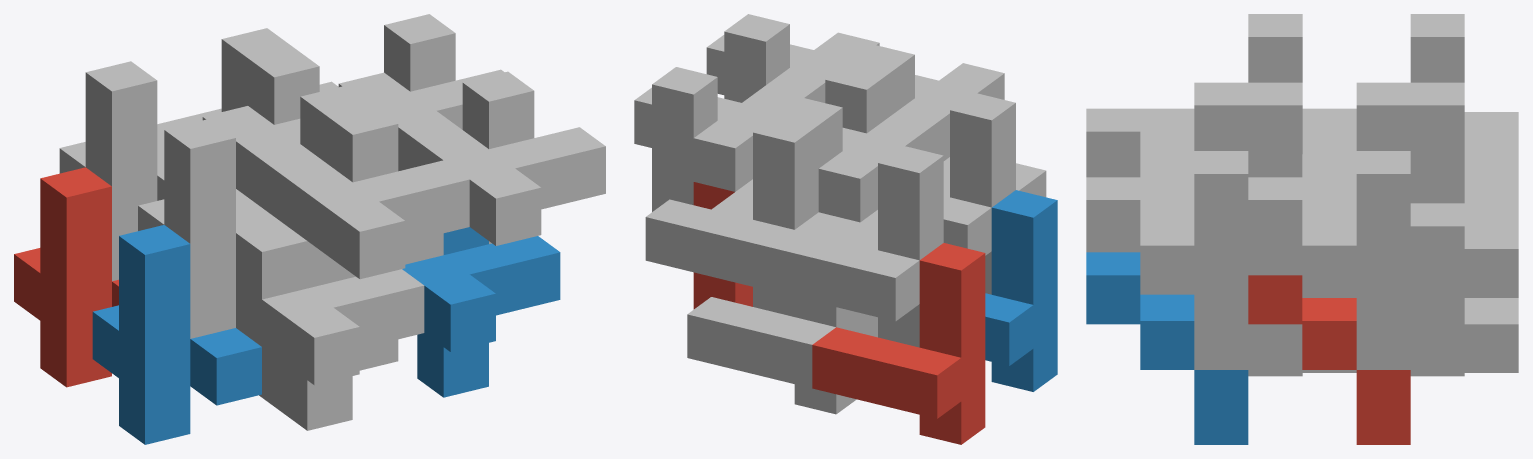
The model's file is tiling.obj.
The picture shows the model from 3 angles, left to right: view 1: azimuth 30°, elevation 25°; view 2: azimuth 150°, elevation 25°; view 3: azimuth 270°, elevation 25°; orthographic projection. The views are drawn at different scales.
Parts seen in each view (by area): view 1: copy_1_domain_2, copy_2_domain_4, copy_1_domain_4, copy_2_domain_2, copy_2_domain_8, copy_2_domain_6, copy_1_domain_1, copy_1_domain_3, copy_2_domain_7, copy_2_domain_3, copy_1_domain_8, copy_1_domain_7 (+1 smaller); view 2: copy_1_domain_1, copy_1_domain_3, copy_1_domain_7, copy_2_domain_7, copy_1_domain_2, copy_1_domain_5, copy_1_domain_4, copy_2_domain_8, copy_2_domain_3, copy_2_domain_4, copy_1_domain_8, copy_2_domain_5 (+1 smaller); view 3: copy_2_domain_7, copy_2_domain_8, copy_1_domain_7, copy_2_domain_6, copy_2_domain_4, copy_2_domain_5, copy_1_domain_5, copy_2_domain_3, copy_1_domain_3, copy_1_domain_8, copy_1_domain_4, copy_1_domain_6.
Part boxes in pixels (x1,y1,x2,y2): copy_1_domain_2: (92,225,261,444); copy_2_domain_4: (281,105,469,279); copy_1_domain_4: (138,119,307,338); copy_2_domain_2: (236,241,424,430); copy_2_domain_8: (417,71,605,245); copy_2_domain_6: (402,227,560,397); copy_1_domain_1: (14,167,118,387); copy_1_domain_3: (59,61,202,281); copy_2_domain_7: (338,14,504,171); copy_2_domain_3: (202,47,325,221); copy_1_domain_8: (300,85,443,264); copy_1_domain_7: (196,28,338,119); copy_1_domain_1: (812,243,985,444); copy_1_domain_3: (770,145,943,347); copy_1_domain_7: (645,115,818,316); copy_2_domain_7: (634,67,807,211); copy_1_domain_2: (985,190,1057,391); copy_1_domain_5: (687,212,860,414); copy_1_domain_4: (943,92,1015,294); copy_2_domain_8: (706,14,879,102); copy_2_domain_3: (777,97,932,222); copy_2_domain_4: (849,44,1004,160); copy_1_domain_8: (825,62,890,133); copy_2_domain_5: (693,182,752,309); copy_2_domain_7: (1248,151,1410,369); copy_2_domain_8: (1086,151,1248,369); copy_1_domain_7: (1410,82,1518,301); copy_2_domain_6: (1086,252,1248,444); copy_2_domain_4: (1086,82,1248,177); copy_2_domain_5: (1248,275,1410,444); copy_1_domain_5: (1410,298,1518,376); copy_2_domain_3: (1302,82,1410,177); copy_1_domain_3: (1410,14,1518,180); copy_1_domain_8: (1248,82,1356,297); copy_1_domain_4: (1248,14,1302,82); copy_1_domain_6: (1248,324,1356,376).
Size of the model in its own units: 9 by 6 by 8.
